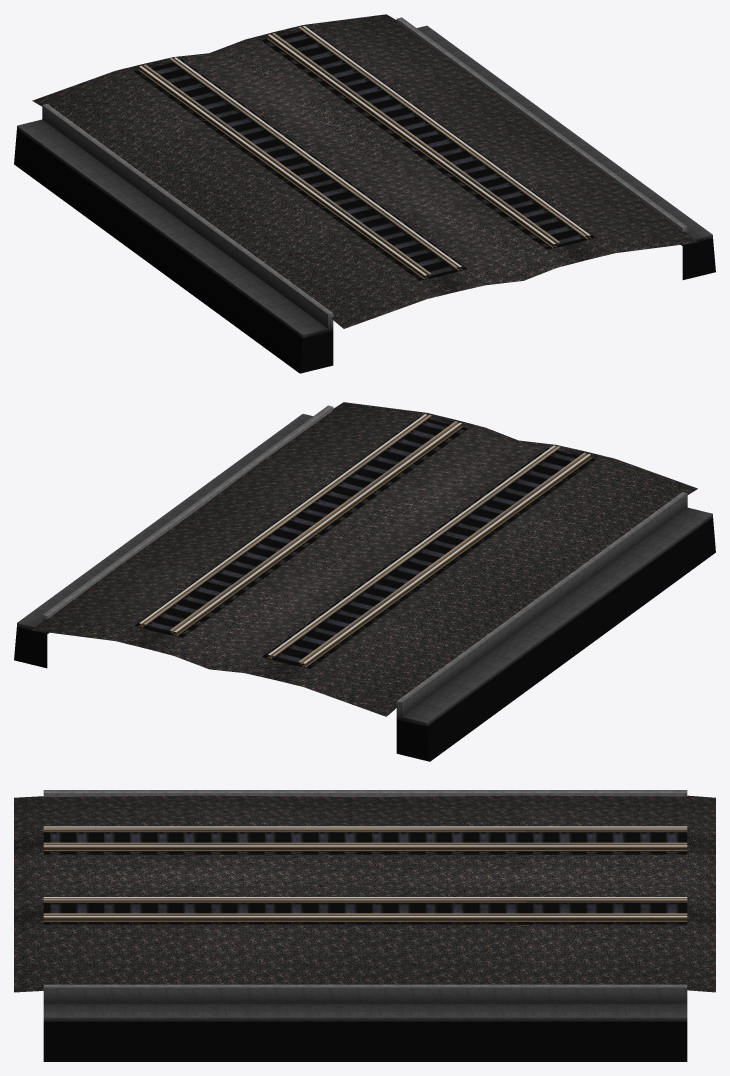
File: MEI_2RAIL_50.glb
The picture shows the model from 3 angles, top to bottom: view 1: azimuth 30°, elevation 25°; view 2: azimuth 150°, elevation 25°; view 3: azimuth 270°, elevation 25°; orthographic projection. The views are drawn at different scales.
Parts seen in each view (by area): view 1: LeftWall1, R000_RG_R1, R000_RG_L1; view 2: LeftWall1, R000_RG_R1, R000_RG_L1; view 3: LeftWall1, R000_RG_L1, R000_RG_R1.
Boxes of the visible parts, box(x1,y1,x2,y2) form: LeftWall1: box(14, 14, 715, 373); R000_RG_R1: box(143, 33, 559, 276); R000_RG_L1: box(169, 26, 586, 268); LeftWall1: box(14, 402, 715, 761); R000_RG_R1: box(169, 421, 586, 664); R000_RG_L1: box(143, 414, 560, 658); LeftWall1: box(14, 790, 715, 1061); R000_RG_L1: box(43, 842, 687, 915); R000_RG_R1: box(43, 828, 687, 902).
Size of the model in its own units: 42 by 6.55 by 54.53.
Materials: 7 (6 with a texture image).
